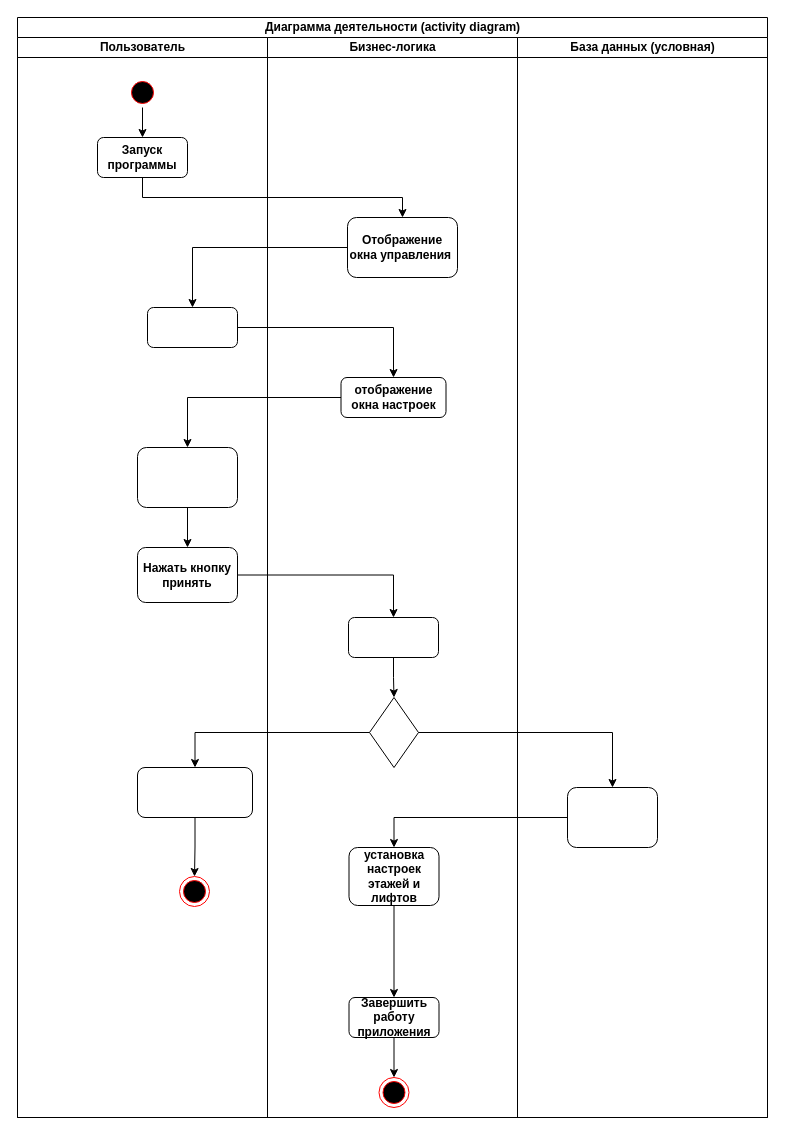
Image size: 785x1135. Some labels were removed from this diagram. Here are the shapes that lost their labels. From the top down, the centre of each, then its label:
pixel 192 327: открыть настройки
pixel 187 477: Ввод количества этажей и лифтов
pixel 393 637: Проверка на допустимость
pixel 194 792: Вывести сообщение о несоответствии
pixel 612 817: сохранение настроек лифтов/этажей
